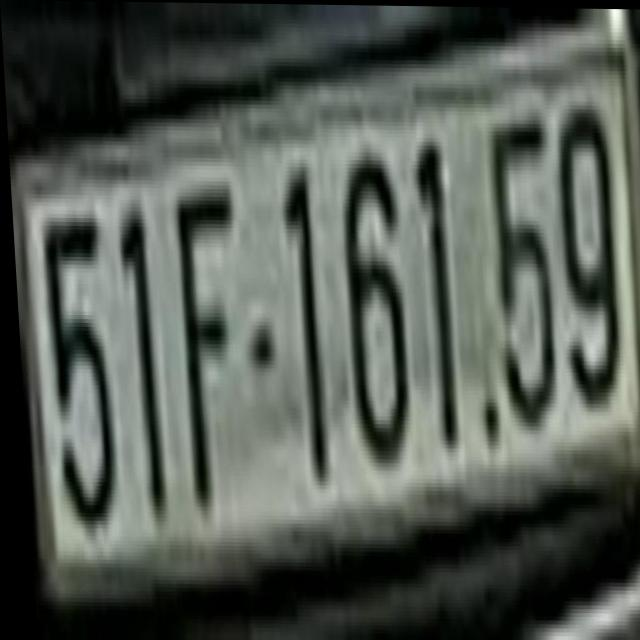1: (272, 147, 331, 496), (113, 191, 165, 526), (409, 137, 460, 459)
5: (40, 198, 116, 552), (483, 103, 559, 429)
6: (335, 147, 414, 470)
9: (550, 103, 627, 418)
F: (167, 176, 250, 515)
